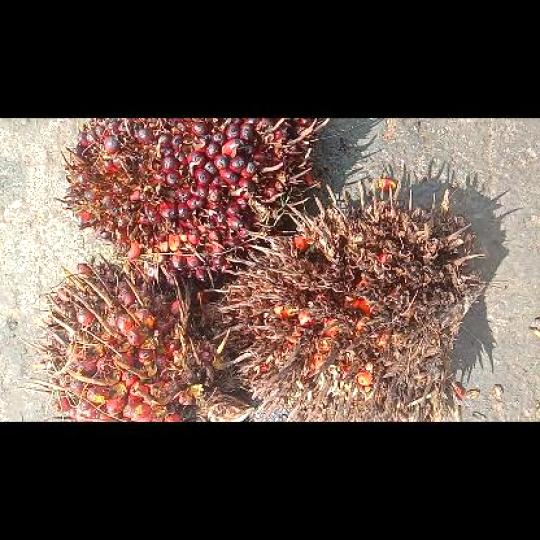masak: (54, 117, 328, 285), (19, 252, 254, 420)
terlalu masak: (203, 179, 485, 421)
